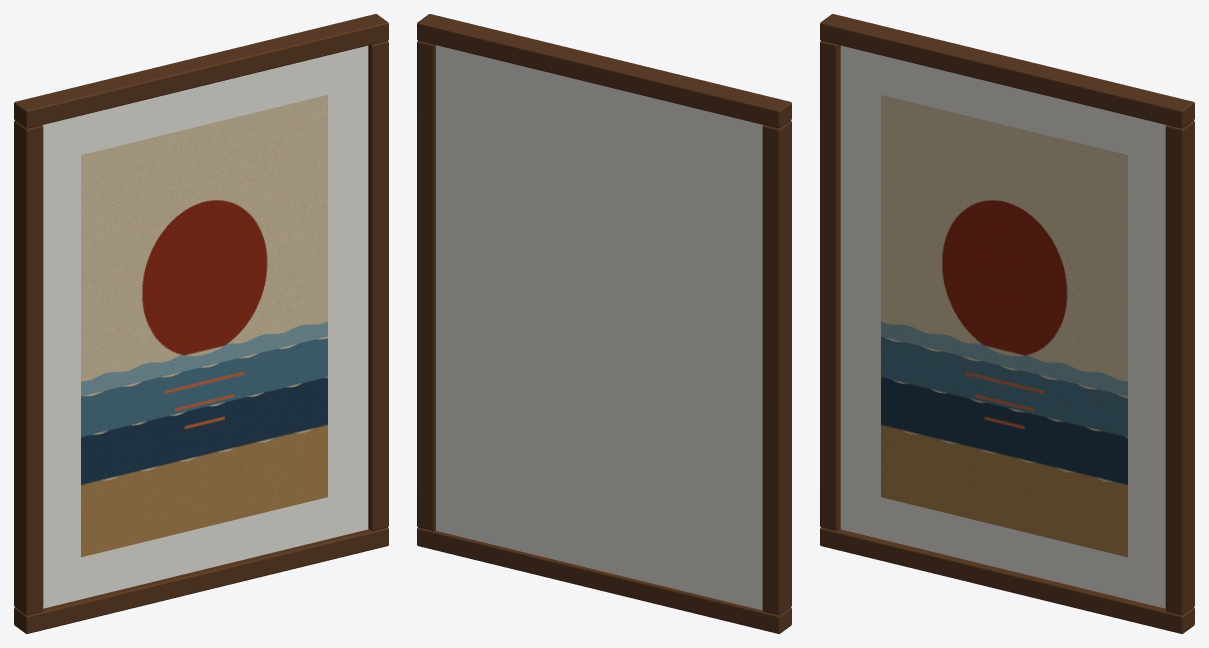
The model's file is quadro_sol.glb.
3 views of the same model, side by side, from view 1: azimuth 30°, elevation 25°; view 2: azimuth 150°, elevation 25°; view 3: azimuth 330°, elevation 25° (orthographic).
Visible parts, largest first — view 1: q_pintura, q_passe, q_moldura_l, q_moldura_t, q_moldura_r, q_moldura_b; view 2: q_passe, q_moldura_l, q_moldura_t, q_moldura_r, q_moldura_b; view 3: q_pintura, q_passe, q_moldura_r, q_moldura_t, q_moldura_l, q_moldura_b.
Part boxes in pixels (x1=…): q_pintura: x1=81, y1=95, x2=327, y2=557; q_passe: x1=42, y1=45, x2=368, y2=608; q_moldura_l: x1=14, y1=121, x2=43, y2=615; q_moldura_t: x1=14, y1=14, x2=388, y2=128; q_moldura_r: x1=368, y1=41, x2=388, y2=530; q_moldura_b: x1=14, y1=527, x2=388, y2=633; q_passe: x1=436, y1=45, x2=763, y2=610; q_moldura_l: x1=762, y1=121, x2=791, y2=615; q_moldura_t: x1=417, y1=14, x2=791, y2=128; q_moldura_r: x1=417, y1=41, x2=435, y2=530; q_moldura_b: x1=417, y1=527, x2=791, y2=633; q_pintura: x1=881, y1=95, x2=1127, y2=557; q_passe: x1=840, y1=45, x2=1166, y2=608; q_moldura_r: x1=1165, y1=121, x2=1194, y2=615; q_moldura_t: x1=820, y1=14, x2=1194, y2=128; q_moldura_l: x1=820, y1=41, x2=840, y2=530; q_moldura_b: x1=820, y1=527, x2=1194, y2=633.
Size of the model in its own units: 0.45 by 0.62 by 0.028.
Materials: 3 (1 with a texture image).
